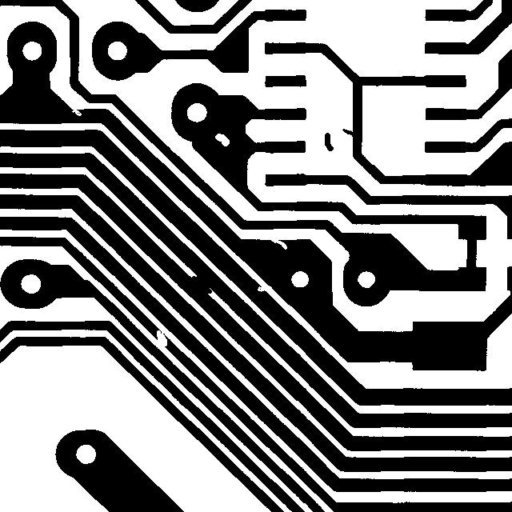copper: (317, 125, 341, 158)
mousebite: (260, 229, 294, 257), (64, 98, 89, 123), (250, 278, 274, 299)
open: (149, 322, 174, 354)
pin-hole: (207, 126, 237, 154)
short: (183, 268, 219, 301)
spur: (334, 121, 362, 145)
